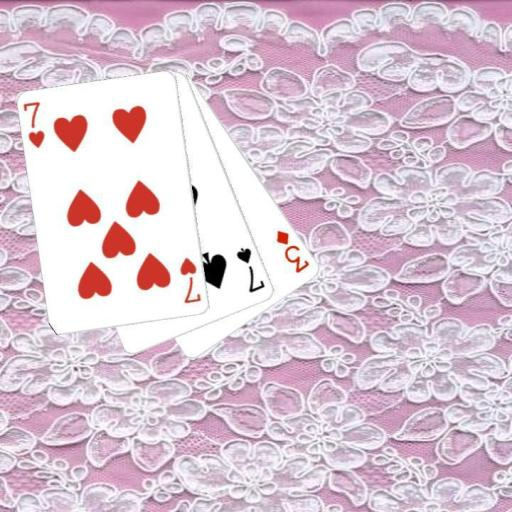card-corner: (273, 227, 312, 275), (234, 244, 268, 294), (177, 254, 203, 306), (21, 98, 47, 149)
